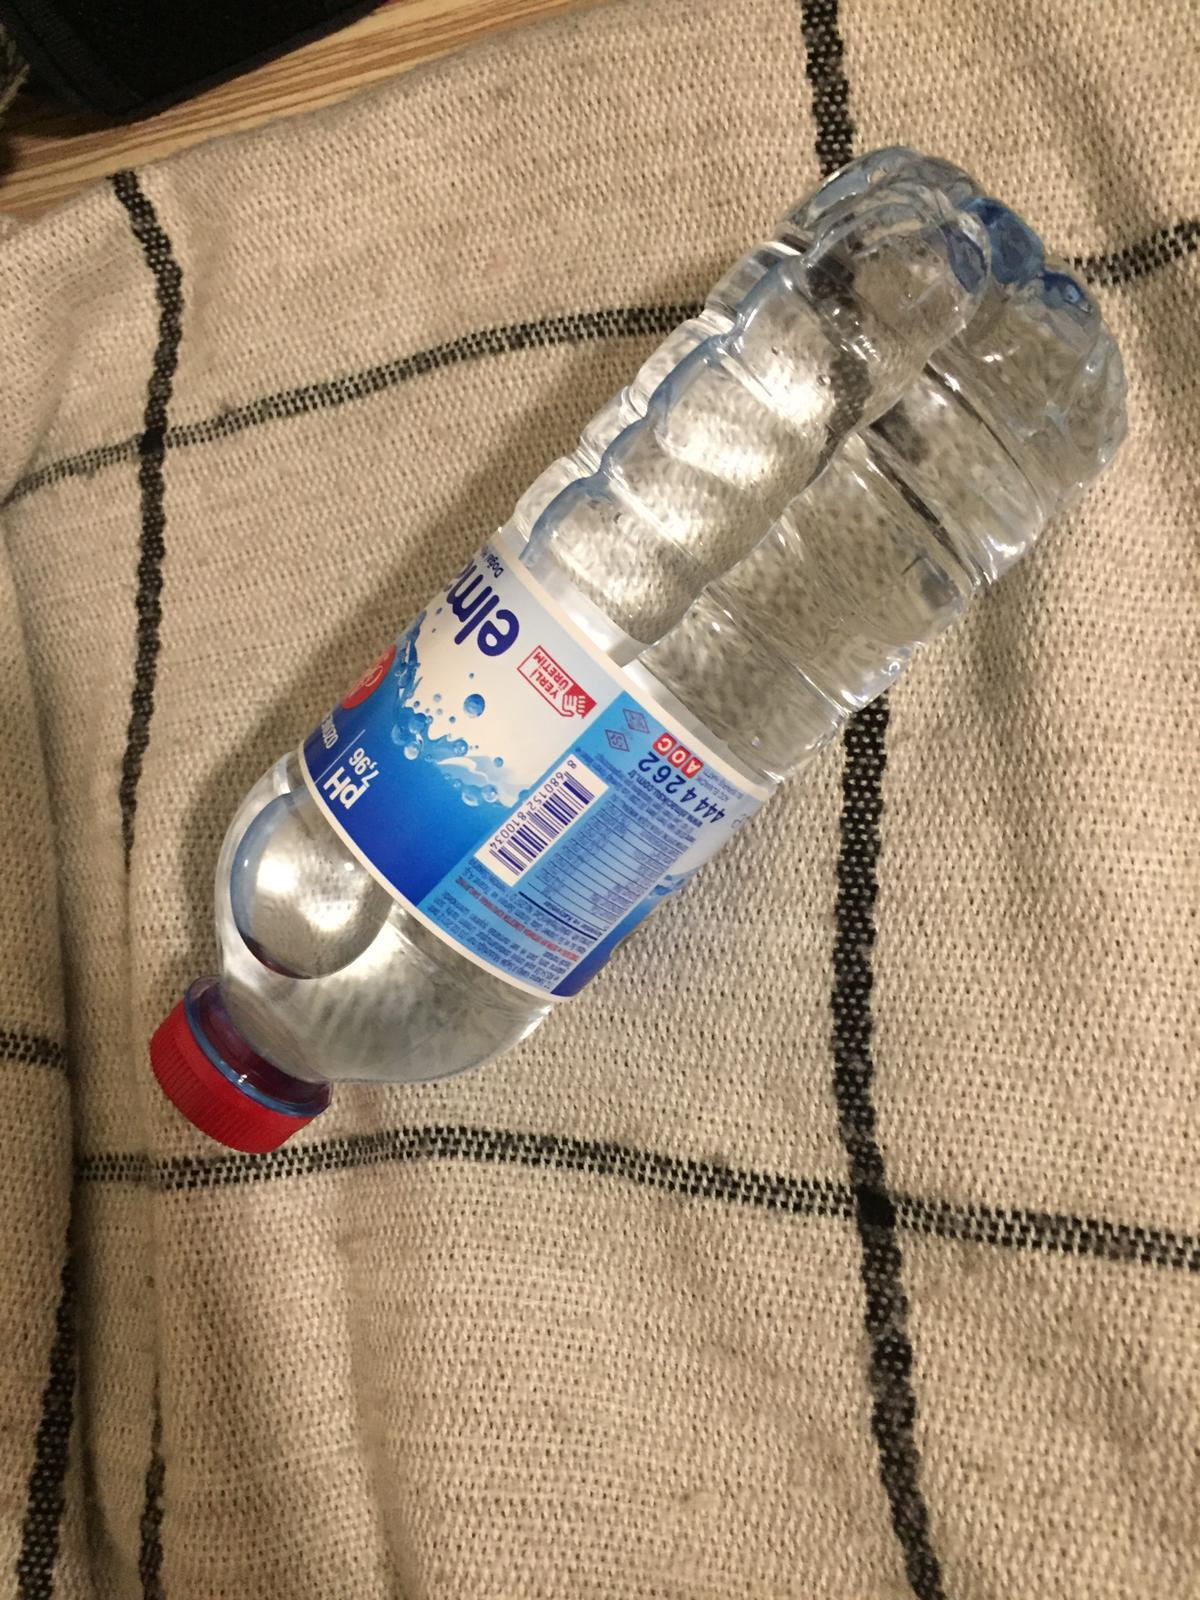bottle: (145, 131, 1127, 1159)
